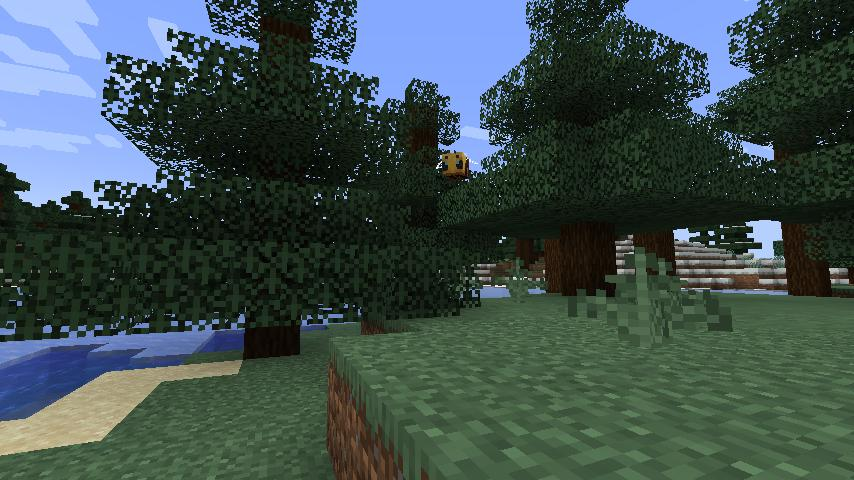bee: (435, 150, 481, 182)
